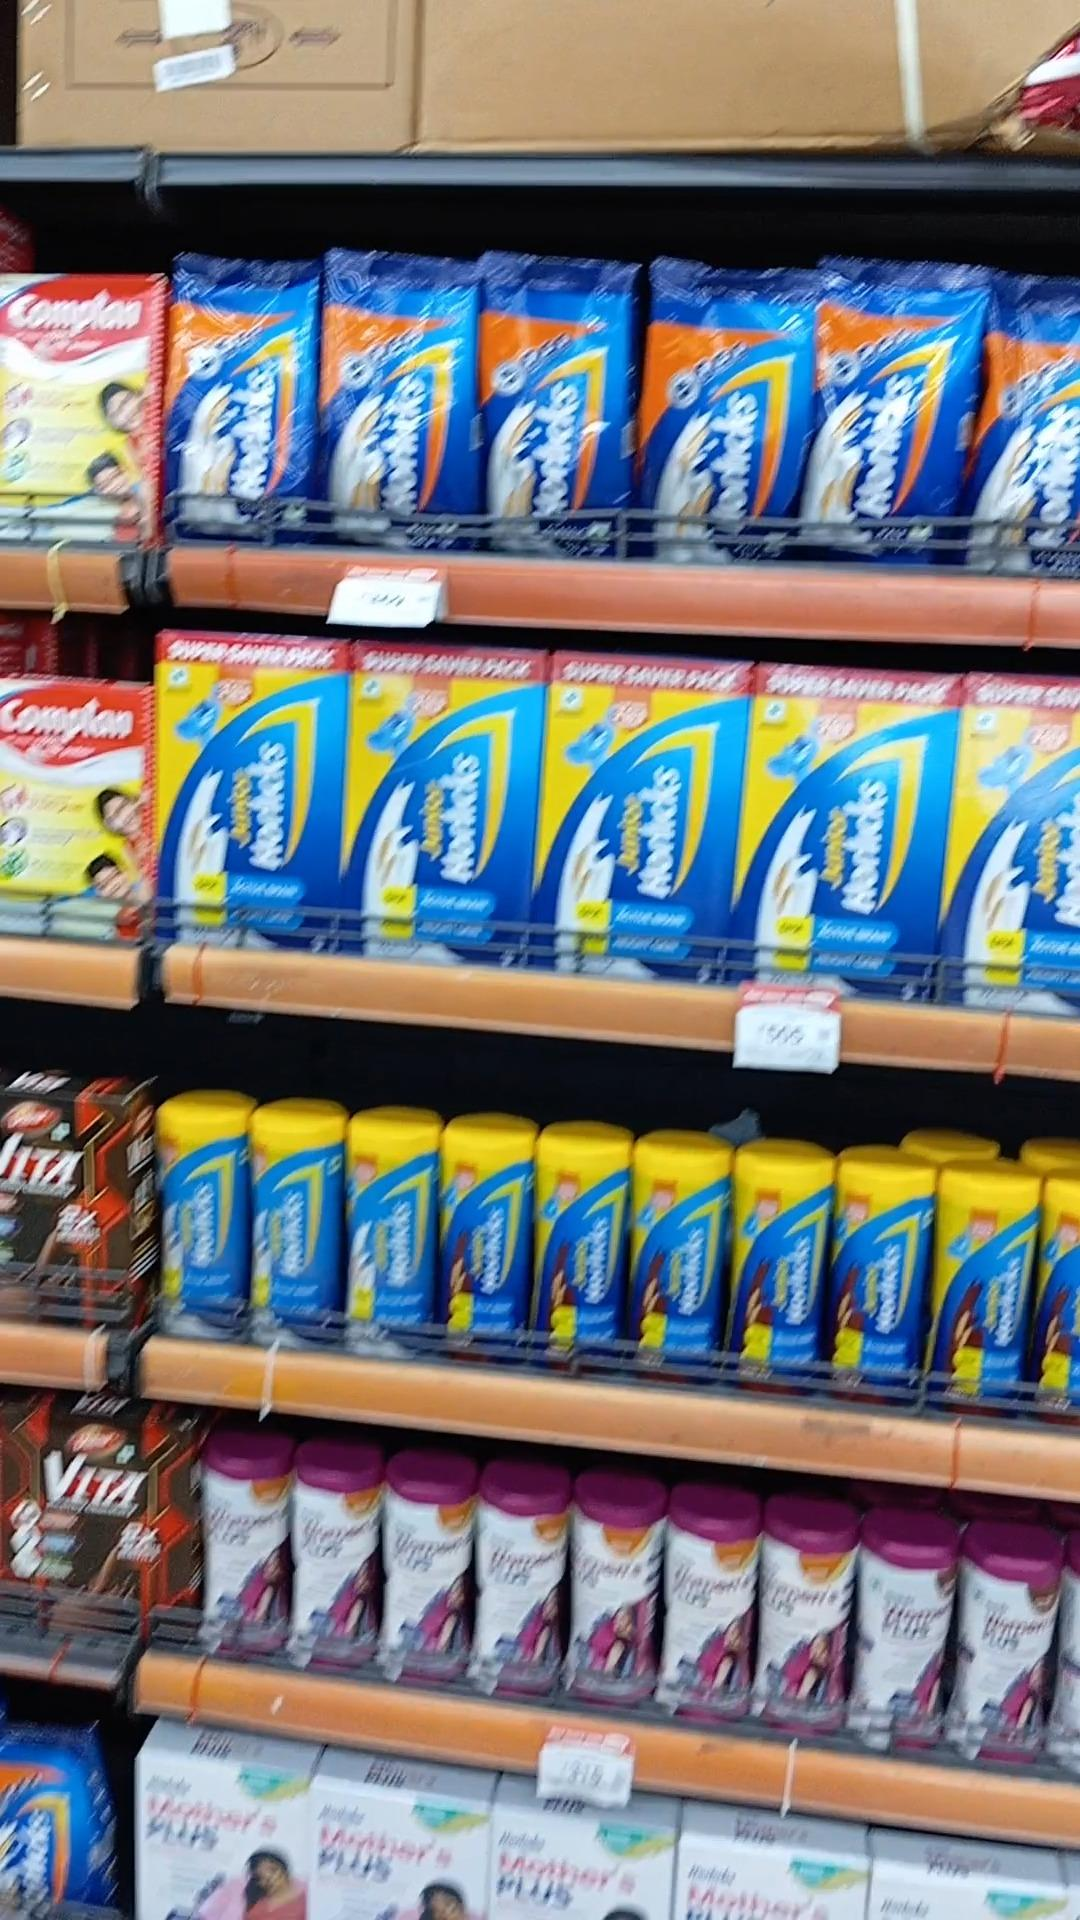COMPLAN_CREAMY_CLASSIC_500_G_PACK: (1, 270, 158, 547), (0, 680, 141, 945)
HORLICKS_JUNIOR_VANILLA_500_GM_JAR: (934, 1160, 1038, 1429), (736, 1145, 829, 1411), (439, 1112, 531, 1366), (835, 1151, 927, 1404), (633, 1139, 725, 1389), (252, 1112, 343, 1356), (152, 1096, 239, 1345), (538, 1127, 622, 1379), (345, 1117, 430, 1367)
HORLICK_CLASSIC_MALT_750_G_POUCH: (319, 249, 479, 555), (647, 273, 806, 558), (483, 262, 634, 546), (165, 251, 311, 542), (816, 265, 952, 564), (960, 278, 1080, 582)
